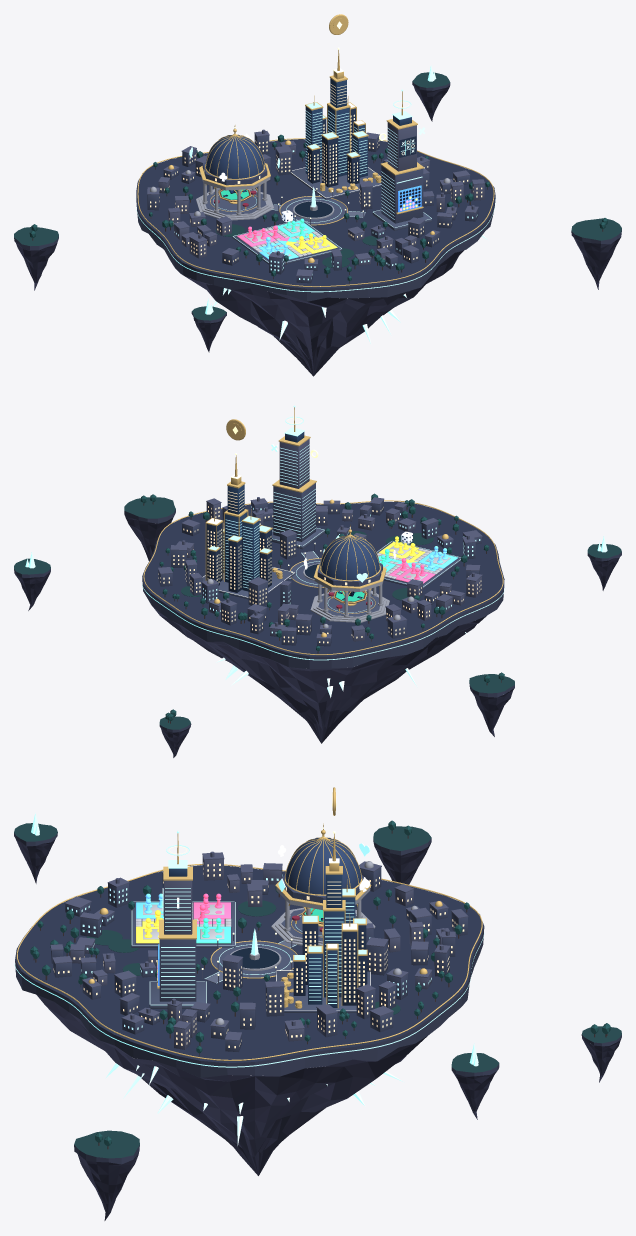
Rendered from city-light.glb.
3 renders of one model, top to bottom at view 1: azimuth 30°, elevation 25°; view 2: azimuth 150°, elevation 25°; view 3: azimuth 270°, elevation 25°, orthographic. The views are drawn at different scales.
Visible parts, largest first — view 1: island_rock, city, tharwa_body, cards_body, arcade_body, ludo_body, FLOAT_3, FLOAT_1, FLOAT_2, FLOAT_4; view 2: island_rock, city, tharwa_body, cards_body, arcade_body, ludo_body, FLOAT_3, FLOAT_1, FLOAT_2, FLOAT_4, FLOAT_5; view 3: island_rock, city, tharwa_body, arcade_body, cards_body, ludo_body, FLOAT_3, FLOAT_1, FLOAT_2, FLOAT_4, FLOAT_5.
Boxes of the visible parts, x1=… form: island_rock: x1=135, y1=138, x2=496, y2=376; city: x1=147, y1=129, x2=489, y2=283; tharwa_body: x1=290, y1=47, x2=381, y2=199; cards_body: x1=196, y1=125, x2=273, y2=220; arcade_body: x1=372, y1=89, x2=431, y2=230; ludo_body: x1=232, y1=218, x2=342, y2=264; FLOAT_3: x1=571, y1=218, x2=621, y2=289; FLOAT_1: x1=14, y1=224, x2=58, y2=290; FLOAT_2: x1=412, y1=65, x2=450, y2=121; FLOAT_4: x1=191, y1=298, x2=226, y2=352; island_rock: x1=142, y1=500, x2=505, y2=743; city: x1=158, y1=493, x2=488, y2=653; tharwa_body: x1=202, y1=453, x2=295, y2=599; cards_body: x1=310, y1=524, x2=389, y2=622; arcade_body: x1=272, y1=405, x2=324, y2=549; ludo_body: x1=376, y1=536, x2=460, y2=588; FLOAT_3: x1=124, y1=494, x2=175, y2=560; FLOAT_1: x1=469, y1=672, x2=514, y2=736; FLOAT_2: x1=14, y1=552, x2=50, y2=610; FLOAT_4: x1=587, y1=536, x2=621, y2=590; FLOAT_5: x1=159, y1=709, x2=191, y2=757; island_rock: x1=14, y1=864, x2=484, y2=1175; city: x1=30, y1=851, x2=469, y2=1056; tharwa_body: x1=276, y1=830, x2=370, y2=1012; arcade_body: x1=149, y1=831, x2=206, y2=1008; cards_body: x1=271, y1=823, x2=375, y2=945; ludo_body: x1=131, y1=893, x2=235, y2=947; FLOAT_3: x1=74, y1=1130, x2=139, y2=1220; FLOAT_1: x1=373, y1=820, x2=431, y2=884; FLOAT_2: x1=451, y1=1043, x2=499, y2=1119; FLOAT_4: x1=14, y1=812, x2=57, y2=883; FLOAT_5: x1=581, y1=1023, x2=621, y2=1082.
Size of the model in its own units: 79.67 by 50.98 by 66.53.
Materials: 48 (4 with a texture image).
